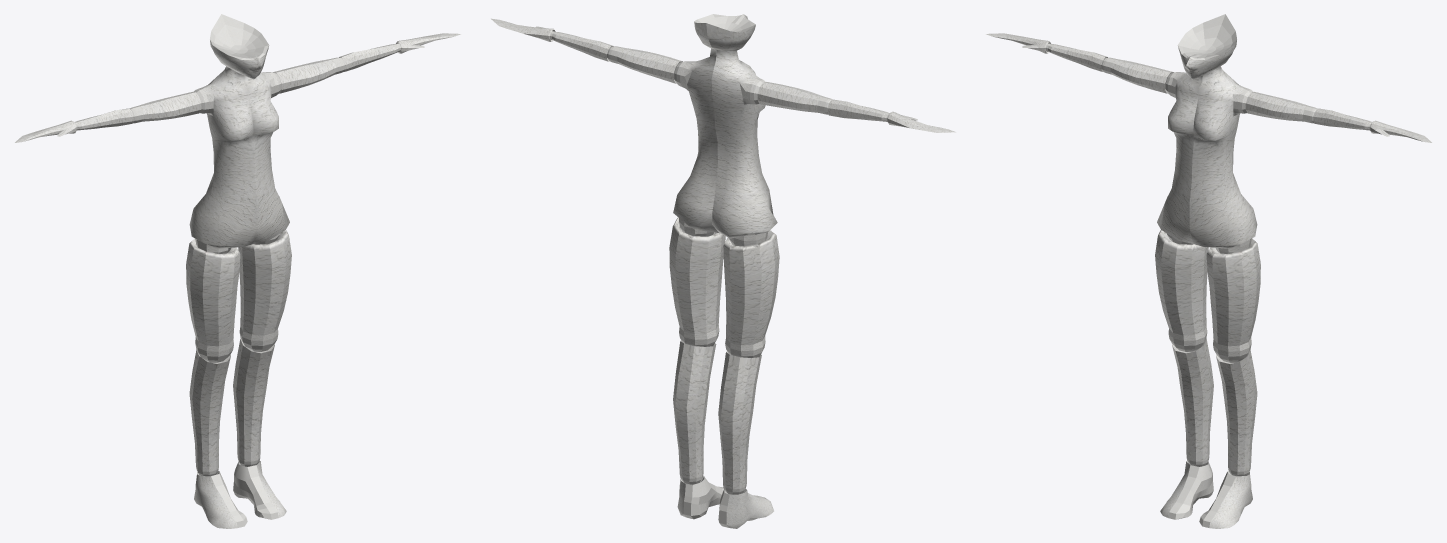
Rendered from Enemydoll2.fbx.
3 views of the same model, side by side, from view 1: azimuth 30°, elevation 25°; view 2: azimuth 150°, elevation 25°; view 3: azimuth 330°, elevation 25° (orthographic). The views are drawn at different scales.
Visible parts, largest first — view 1: Enemydoll2:Enemydoll:doll1:pCylinder7; view 2: Enemydoll2:Enemydoll:doll1:pCylinder7; view 3: Enemydoll2:Enemydoll:doll1:pCylinder7.
Boxes of the visible parts, x1=… form: Enemydoll2:Enemydoll:doll1:pCylinder7: x1=15, y1=14, x2=460, y2=528; Enemydoll2:Enemydoll:doll1:pCylinder7: x1=491, y1=14, x2=955, y2=528; Enemydoll2:Enemydoll:doll1:pCylinder7: x1=986, y1=14, x2=1431, y2=528.
Bounding box in the file's own units: 389 × 403 × 62.58.
1 material, 1 textured.
